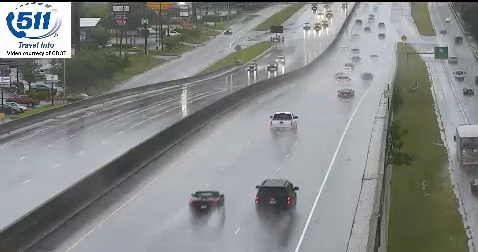car: (254, 179, 296, 213), (190, 190, 224, 215), (269, 112, 296, 131), (337, 88, 354, 100)
